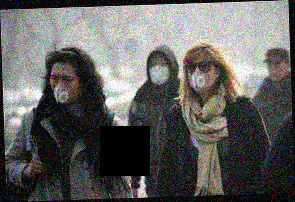with_mask: (49, 70, 80, 105), (188, 58, 217, 92), (148, 58, 170, 87)
without_mask: (266, 58, 287, 82)
